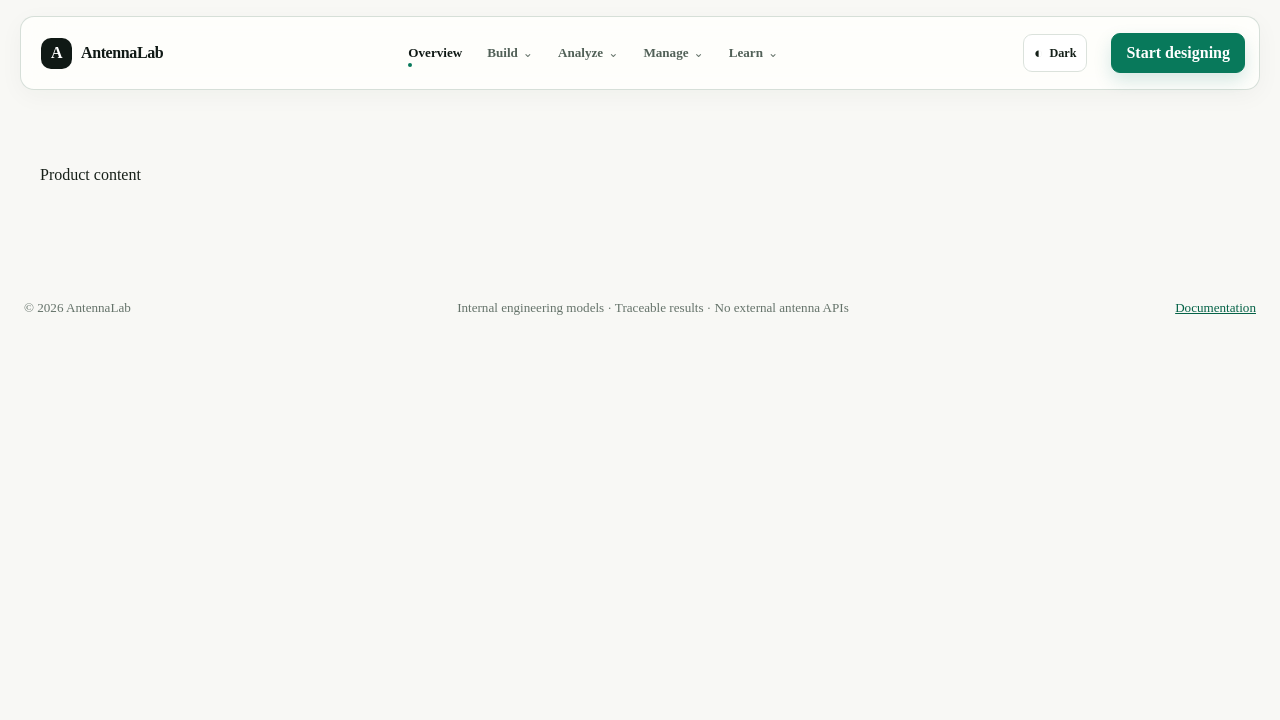
Test case: product routing and representative pages › persists an accessible theme choice through the product shell
Click the button with aria-label "switch to dark theme": click(1055, 53) left=1023, top=34, right=1087, bottom=72
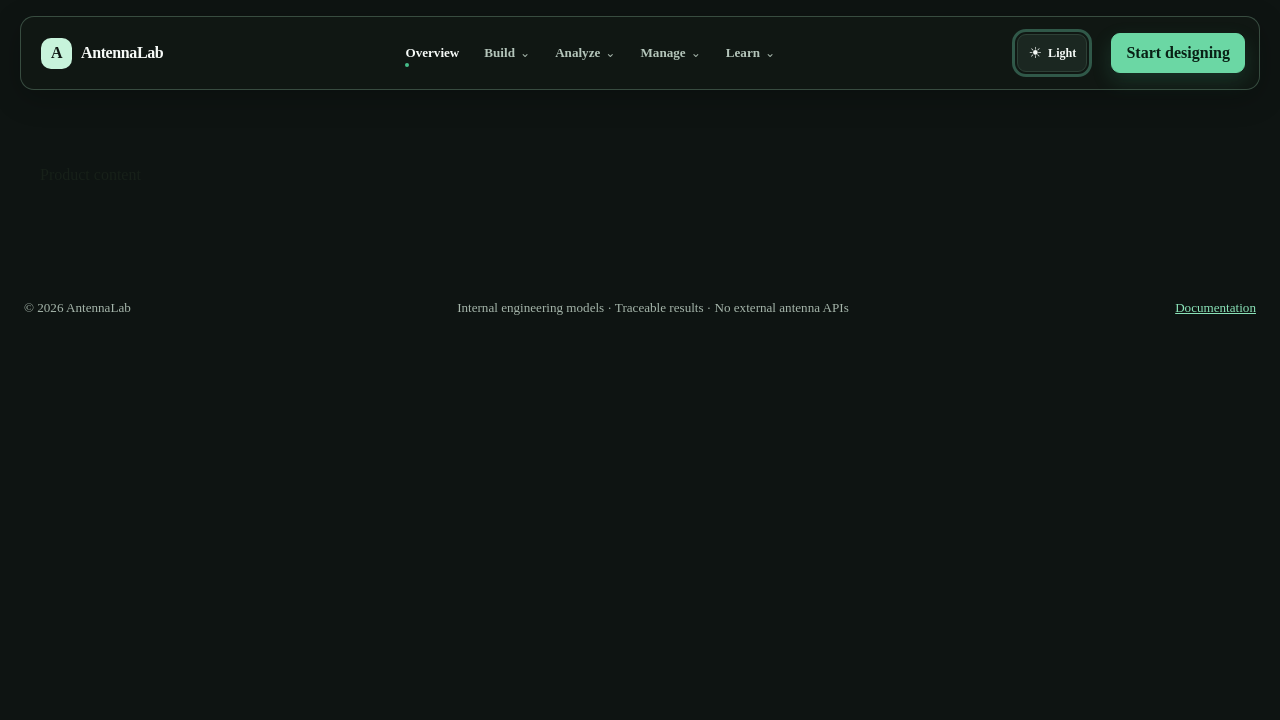
Now the button with aria-label "switch to light theme" is shown, box left=1017, top=34, right=1087, bottom=72
